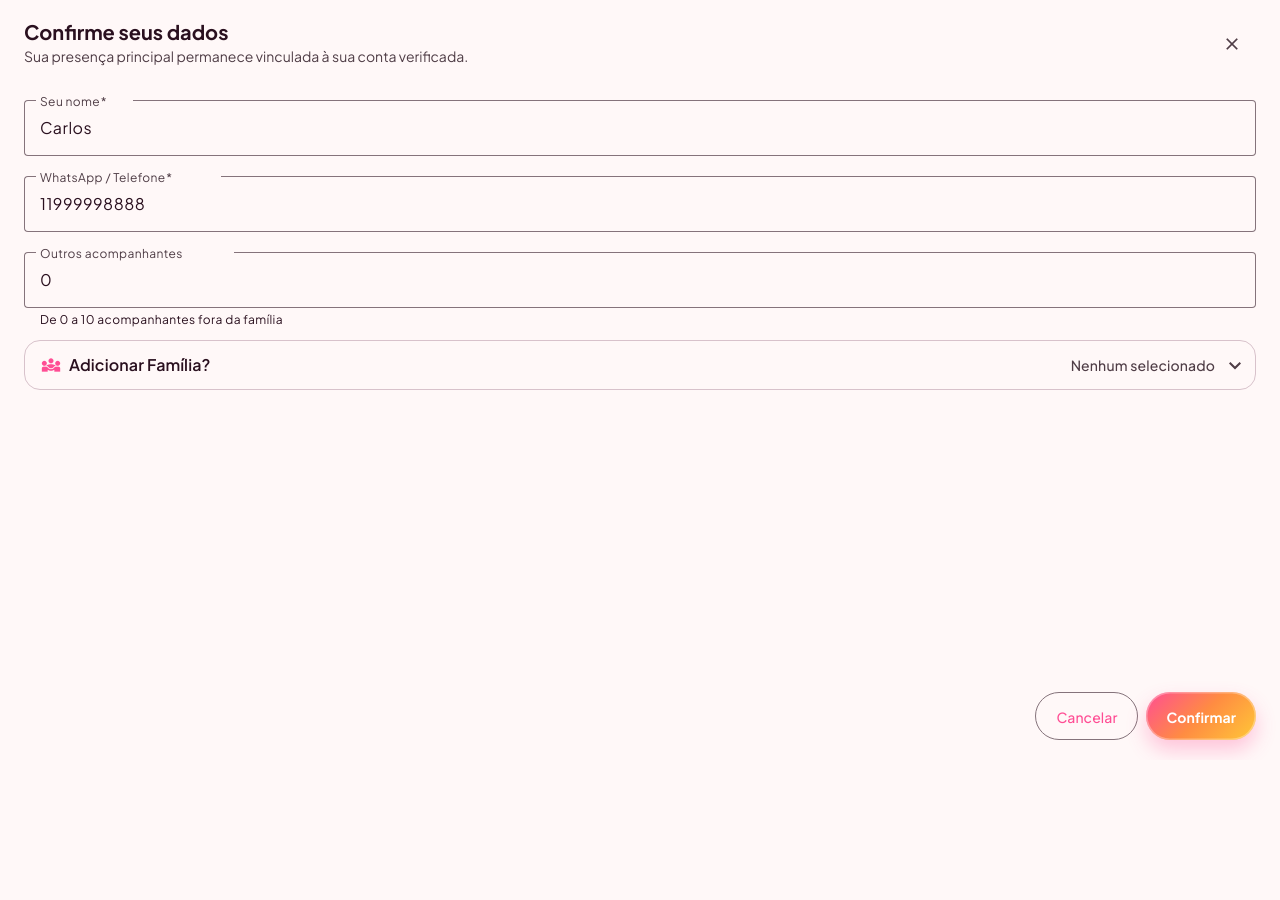
Test: RsvpDrawerComponent › prevents submission and identifies a blank revealed companion
Replace the text in the number field with test id "rsvp-companions-input" with "1" at (640, 280), box [40,268,1240,292]
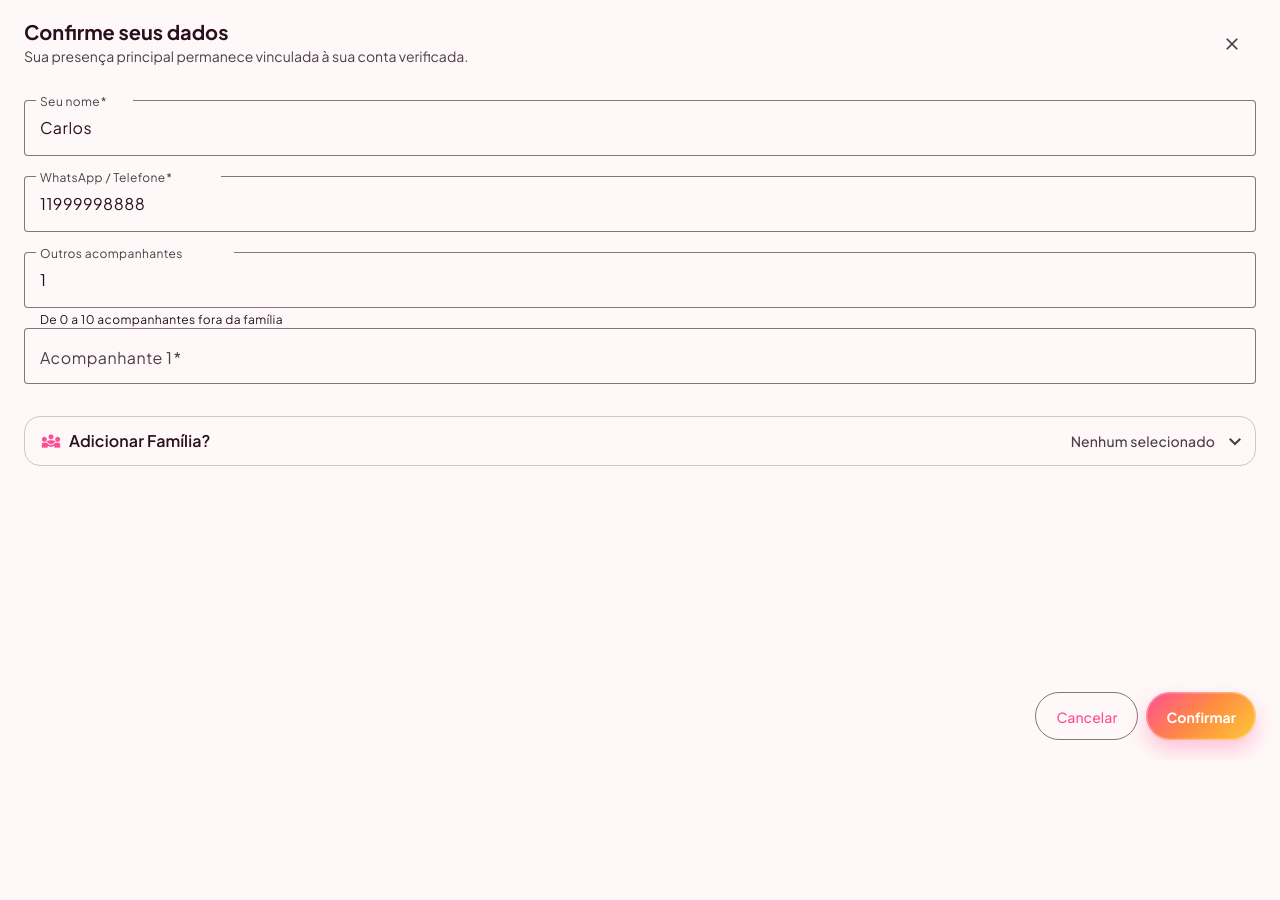
Click the button "Confirmar".
click(1201, 716)  # box [1146,692,1256,740]
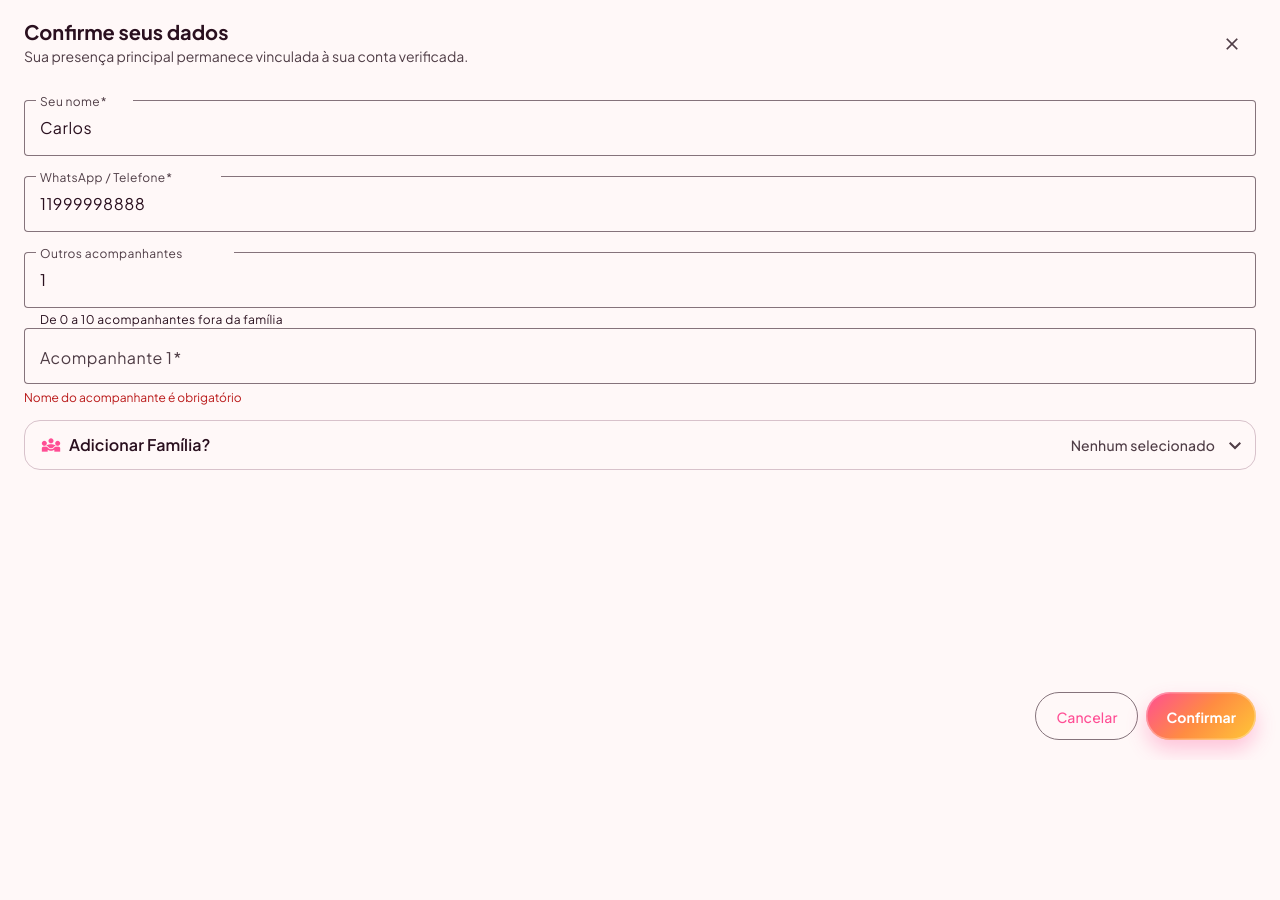
Result: the text "Nome do acompanhante é obrigatório" is shown at [24,390,242,405]
